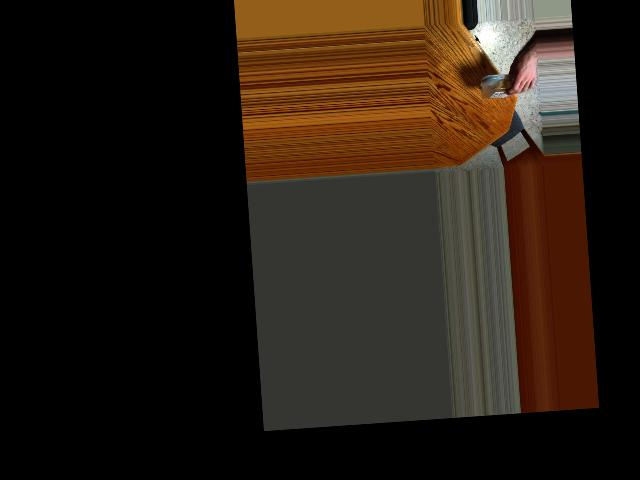cheese: (482, 64, 529, 106)
